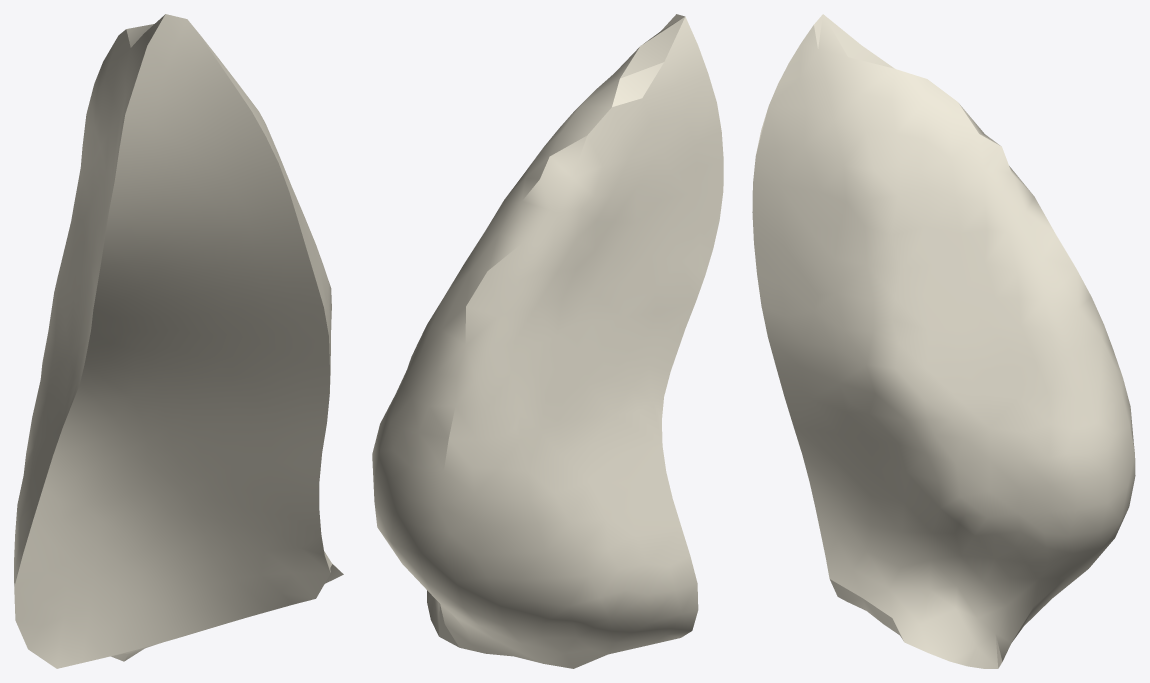
File: fma16327_mm2334.glb
3 views of the same model, side by side, from view 1: azimuth 30°, elevation 25°; view 2: azimuth 150°, elevation 25°; view 3: azimuth 270°, elevation 25° (orthographic). The views are drawn at different scales.
Visible parts, largest first — view 1: FMA16327_MM2334; view 2: FMA16327_MM2334; view 3: FMA16327_MM2334.
Boxes of the visible parts, x1,y1,x2,y2 form: FMA16327_MM2334: (14,14,343,668); FMA16327_MM2334: (372,14,723,668); FMA16327_MM2334: (752,14,1135,668).
Size of the model in its own units: 0.00646 by 0.0142 by 0.00826.
